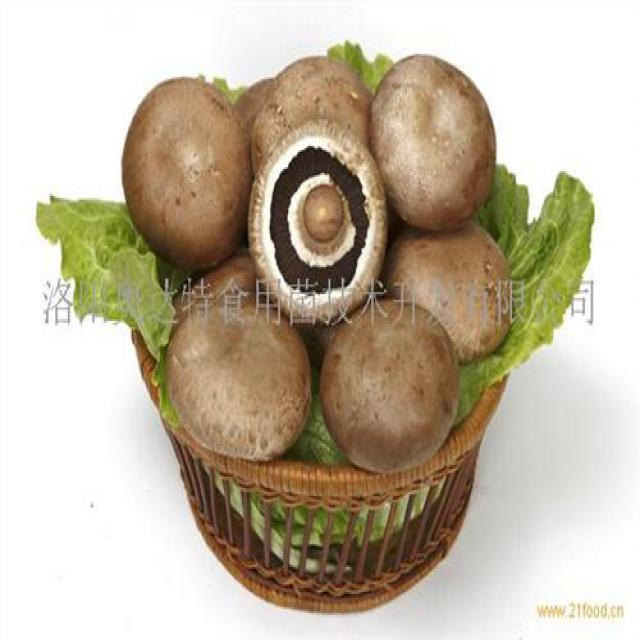Agaricus bisporus: (125, 50, 509, 460)
